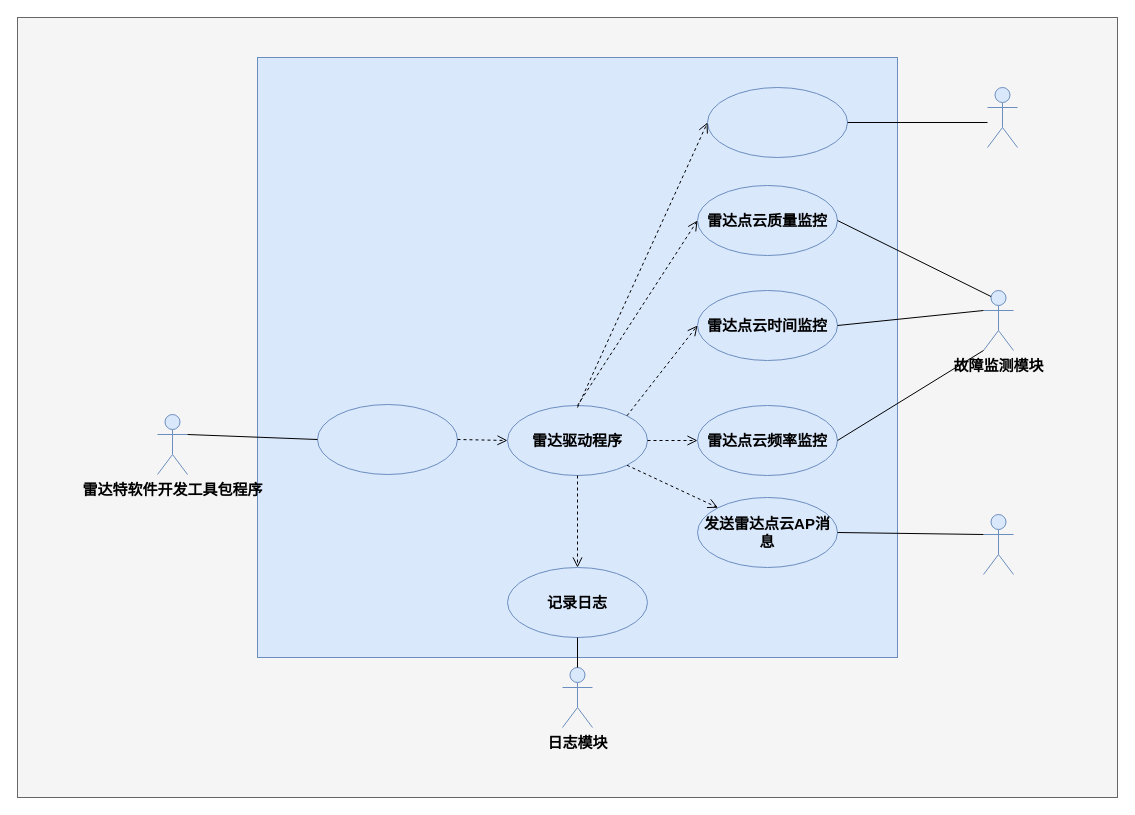
Image size: 1135x815. Some labels were removed from this diagram. Here are the shapes that lost their labels. From the top down, the box of each, then its label:
(706, 86, 848, 158): 发送雷达点云ros消息
(986, 86, 1018, 148): ros可视化模块
(256, 56, 898, 658): 雷达驱动模块
(316, 404, 458, 474): 获取雷达原始点云数据
(982, 514, 1014, 574): 感知传感器模块
